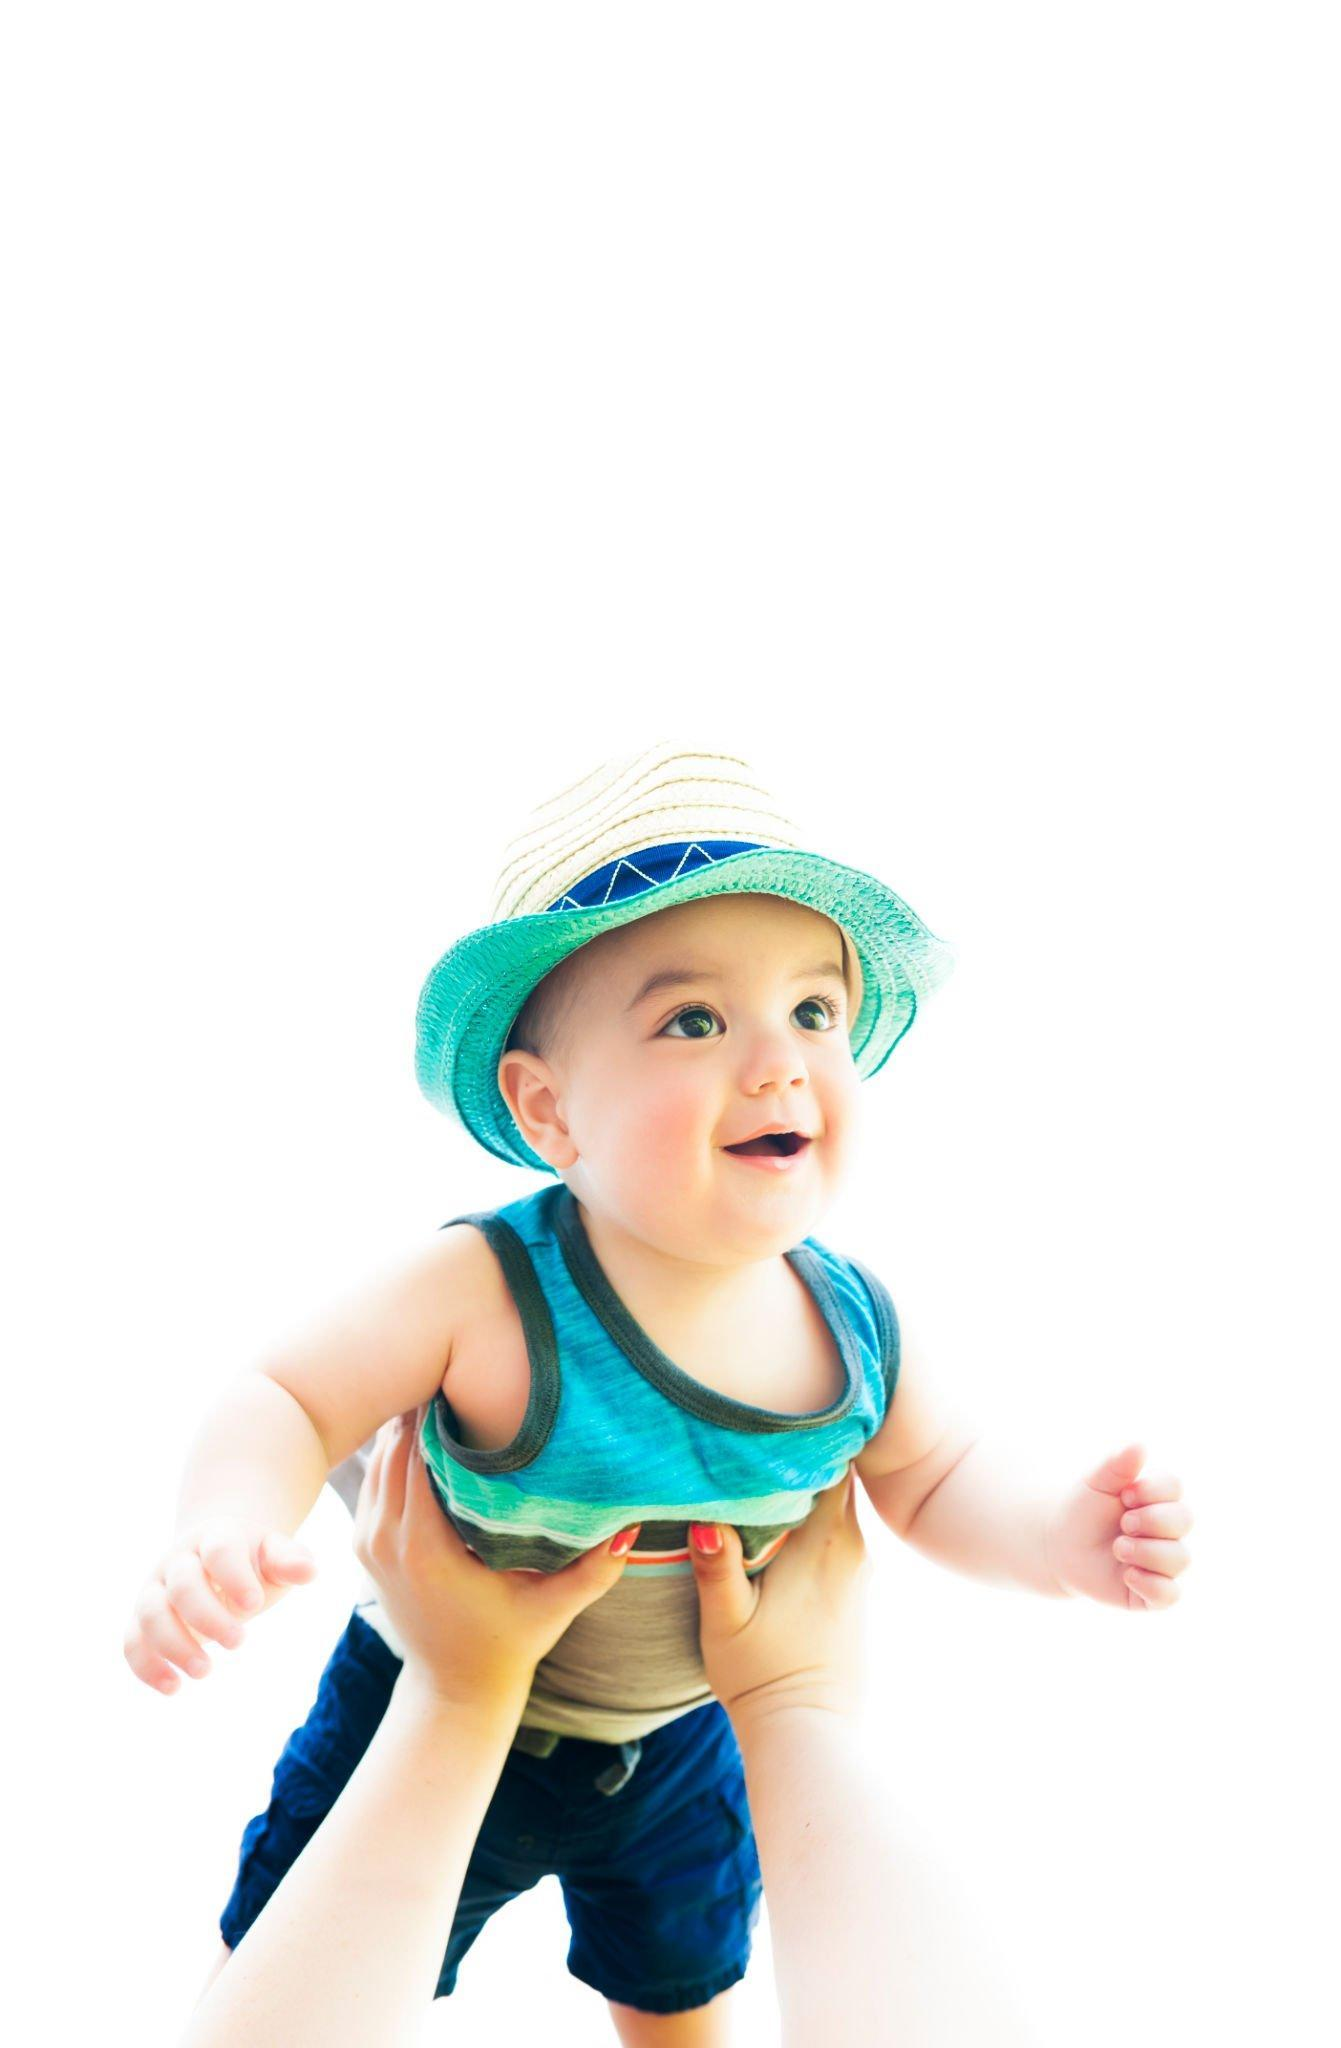Healthy: (585, 950, 896, 1269)
